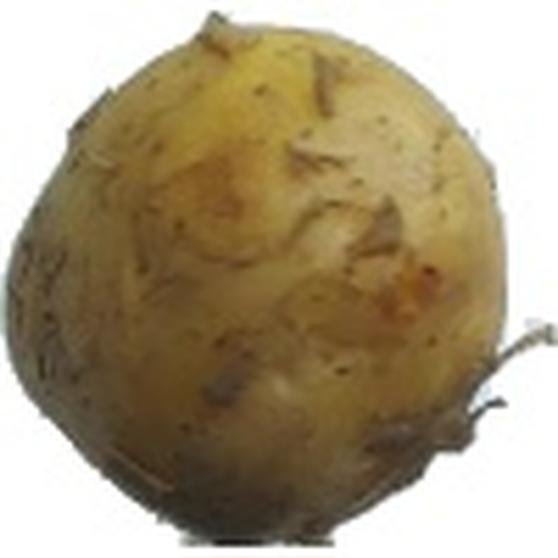potato: (3, 11, 536, 543)
